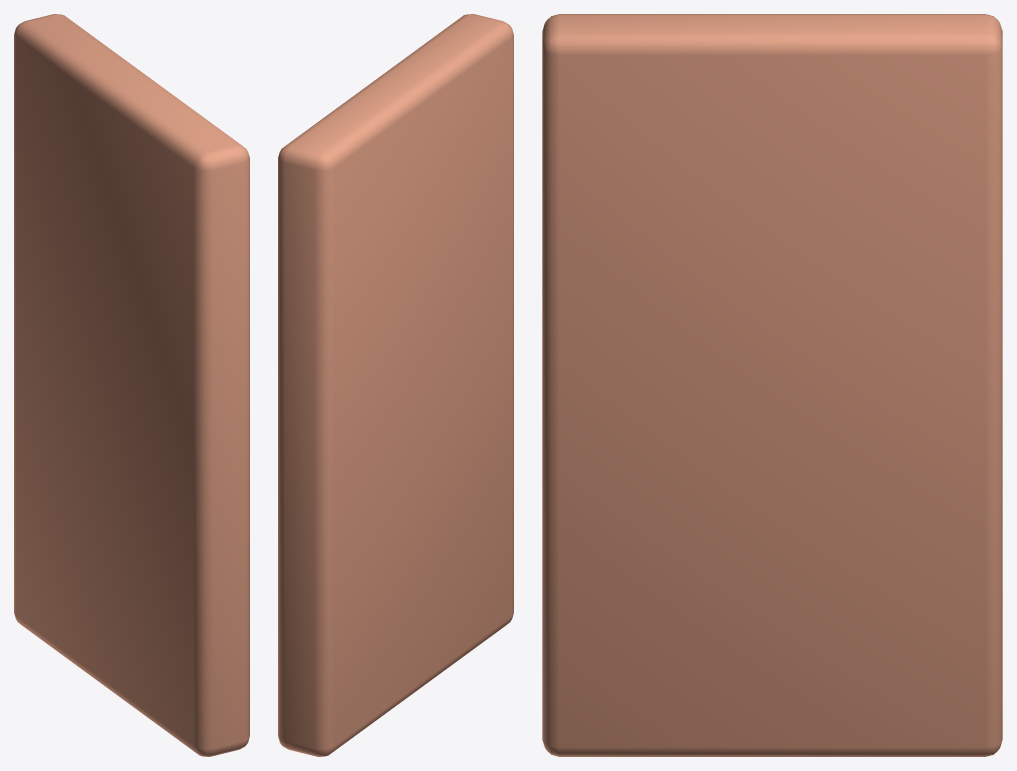
File: block_straight_short.fbx
3 renders of one model, left to right at view 1: azimuth 30°, elevation 25°; view 2: azimuth 150°, elevation 25°; view 3: azimuth 270°, elevation 25°, orthographic. The views are drawn at different scales.
Visible parts, largest first — view 1: block_straight_short; view 2: block_straight_short; view 3: block_straight_short.
Boxes of the visible parts, x1=… form: block_straight_short: x1=14, y1=14, x2=249, y2=756; block_straight_short: x1=278, y1=14, x2=513, y2=756; block_straight_short: x1=542, y1=14, x2=1002, y2=756.
Size of the model in its own units: 65.76 by 700 by 404.
